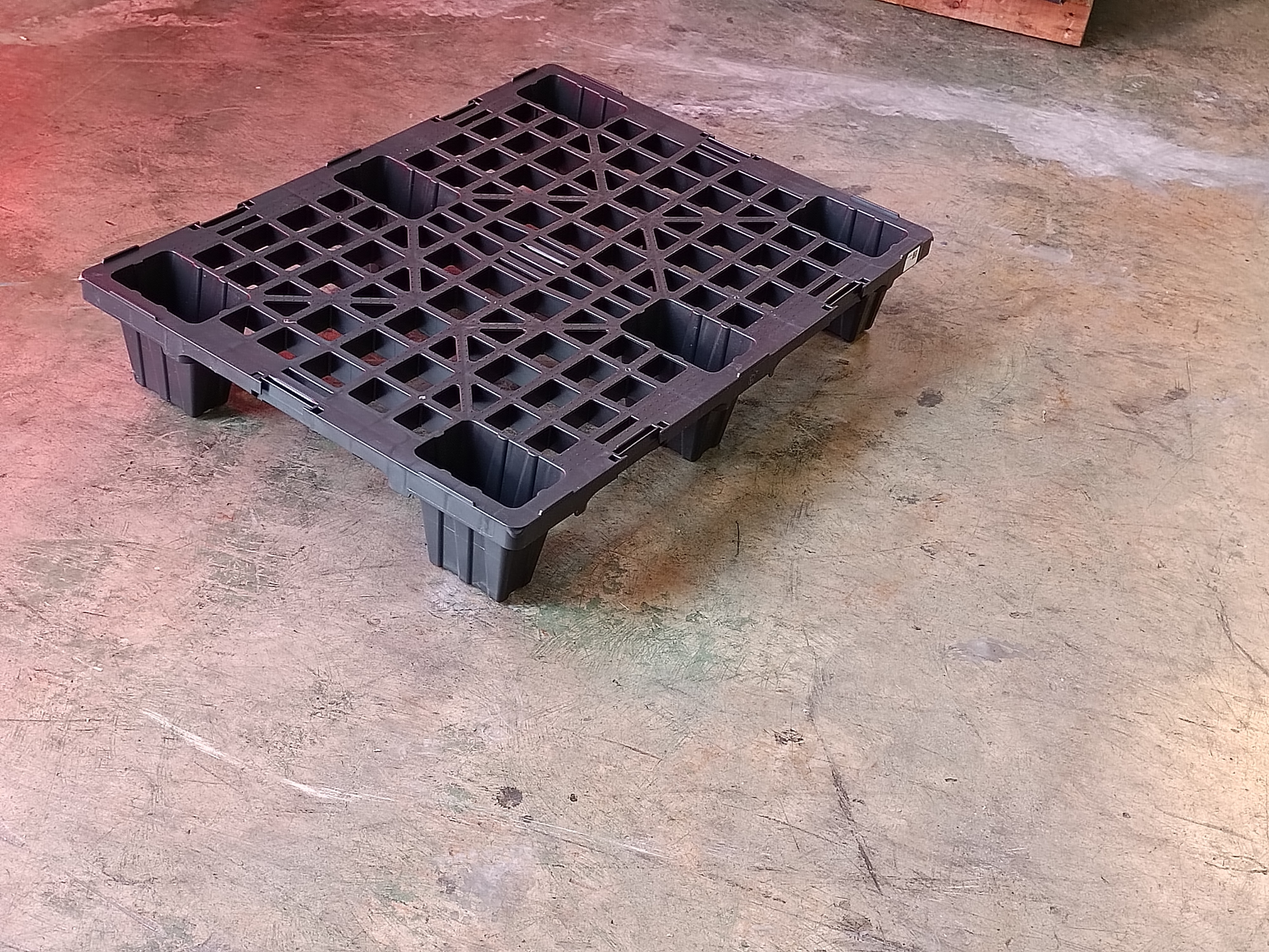block: (417, 486, 553, 604), (121, 311, 228, 417), (684, 370, 745, 459), (845, 264, 902, 348)
front: (508, 240, 923, 603)
hole pallet: (539, 411, 694, 584), (722, 294, 862, 445)
